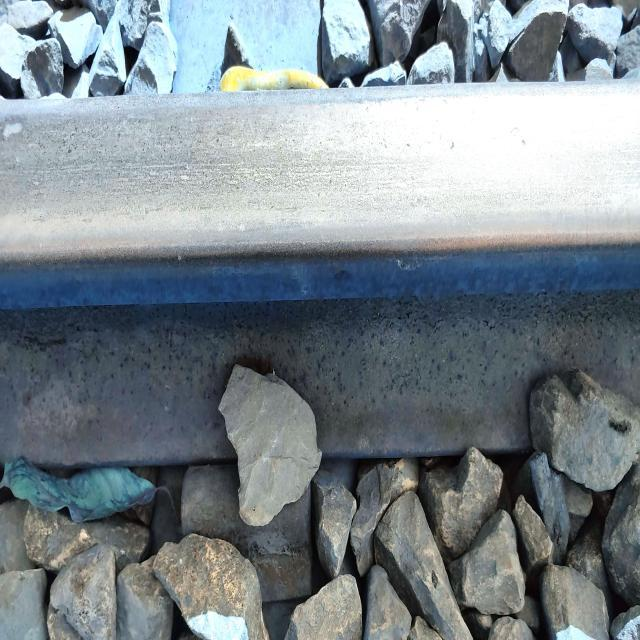Missing Fastener: (170, 411, 326, 615)
